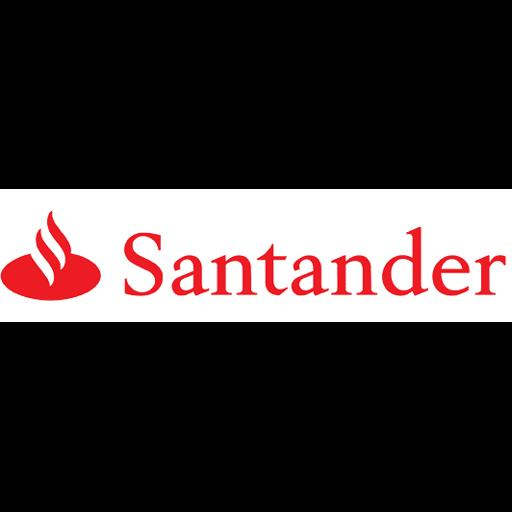Grupo Santander: (0, 189, 512, 322)
